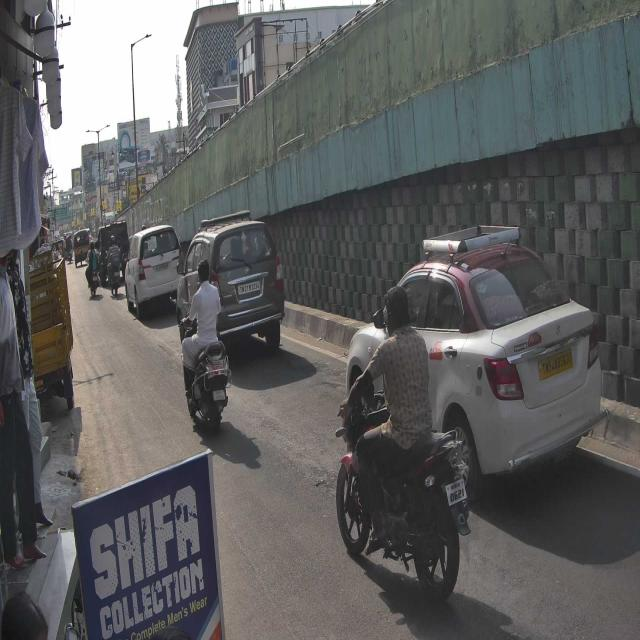single_rider: (334, 282, 472, 606), (175, 256, 231, 436)
